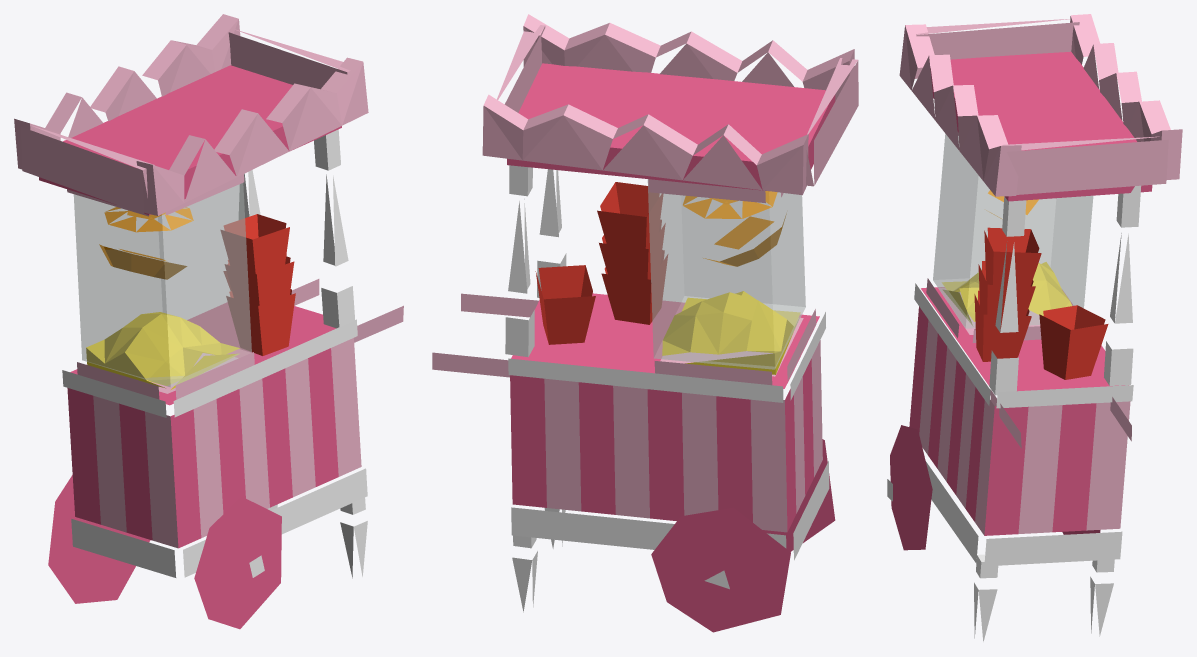
File: popcorn-cart.glb
The picture shows the model from 3 angles, left to right: view 1: azimuth 30°, elevation 25°; view 2: azimuth 150°, elevation 25°; view 3: azimuth 270°, elevation 25°; orthographic projection. The views are drawn at different scales.
Visible parts, largest first — view 1: Node; view 2: Node; view 3: Node.
Part boxes in pixels (left/top/right/bottom): Node: left=14, top=14, right=403, bottom=629; Node: left=432, top=14, right=858, bottom=632; Node: left=887, top=14, right=1182, bottom=641.
Bounding box in the file's own units: 1.97 × 2.71 × 1.42.
